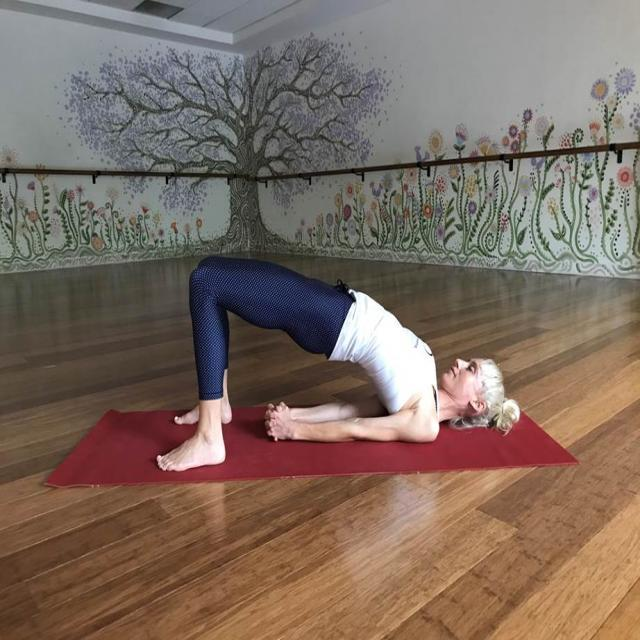yoga-pose bridge: (168, 242, 516, 463)
